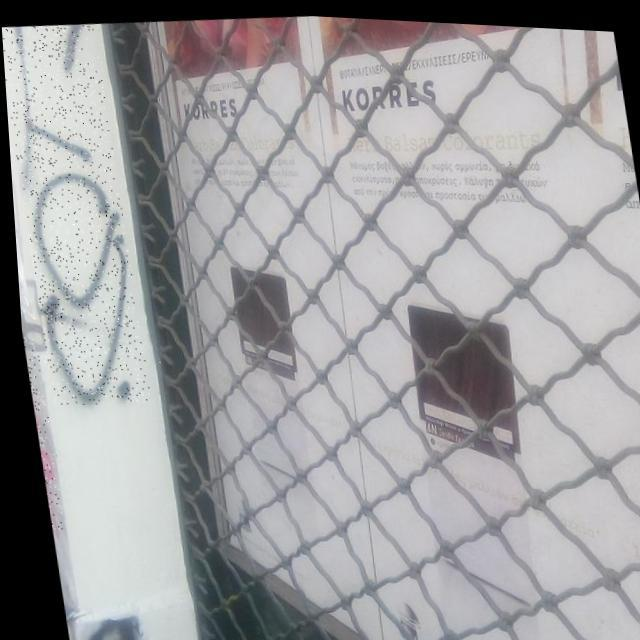-: (1, 19, 146, 409), (18, 335, 58, 529)
